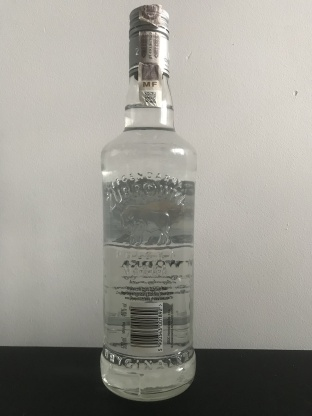nakretka: (126, 1, 172, 78)
